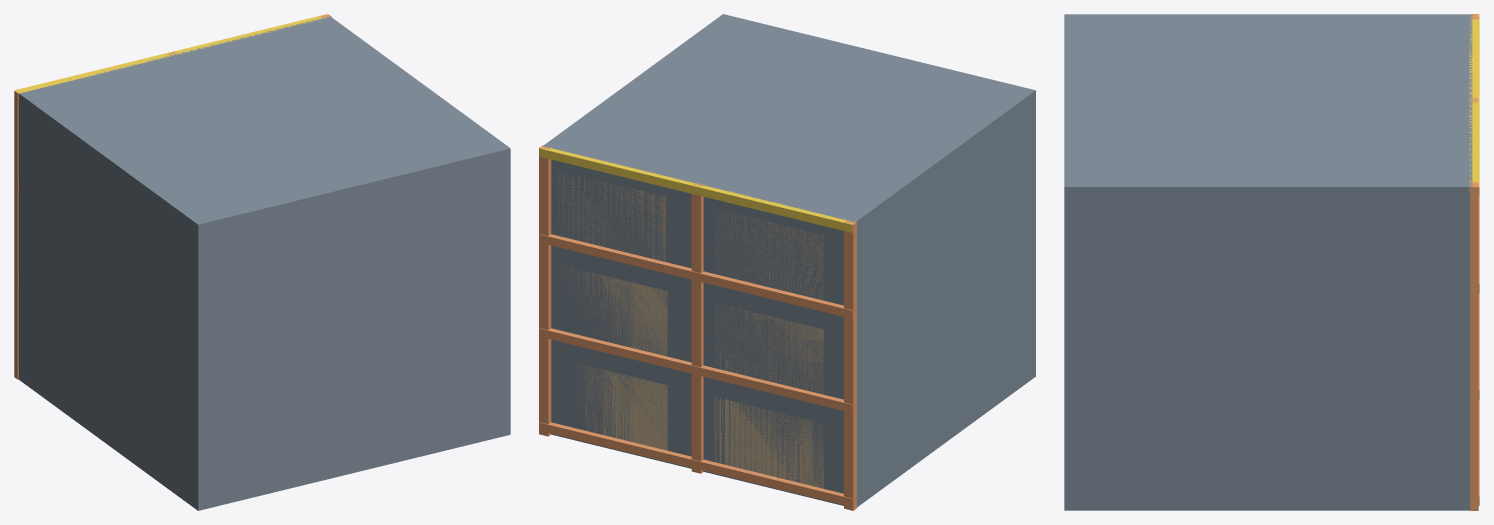
File: WH_RackBlock.fbx
3 renders of one model, left to right at view 1: azimuth 30°, elevation 25°; view 2: azimuth 150°, elevation 25°; view 3: azimuth 270°, elevation 25°, orthographic. The views are drawn at different scales.
Parts seen in each view (by area): view 1: WH_RackBlock; view 2: WH_RackBlock; view 3: WH_RackBlock.
Boxes of the visible parts, box(x1,y1,x2,y2) form: WH_RackBlock: box(14, 14, 510, 510); WH_RackBlock: box(539, 14, 1035, 510); WH_RackBlock: box(1064, 14, 1479, 510).
Bounding box in the file's own units: 4.02 × 3.5 × 4.07.
